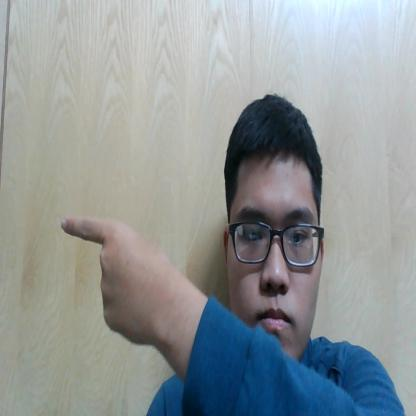right: (48, 194, 188, 366)
